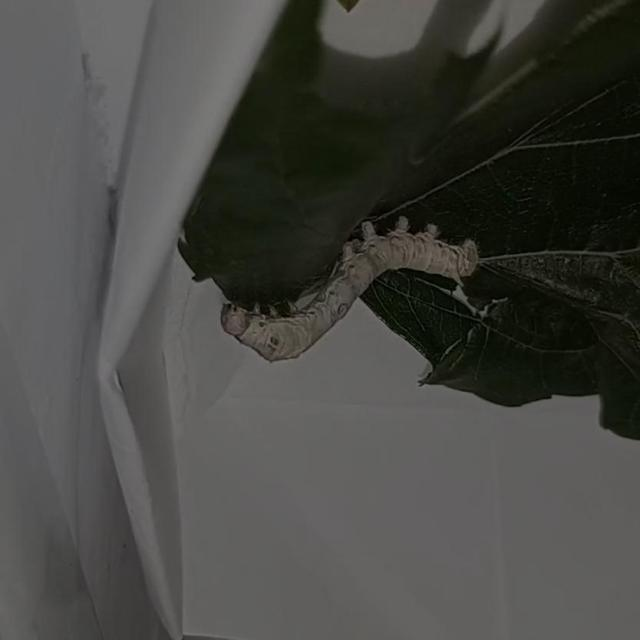Healthy: (215, 215, 481, 368)
